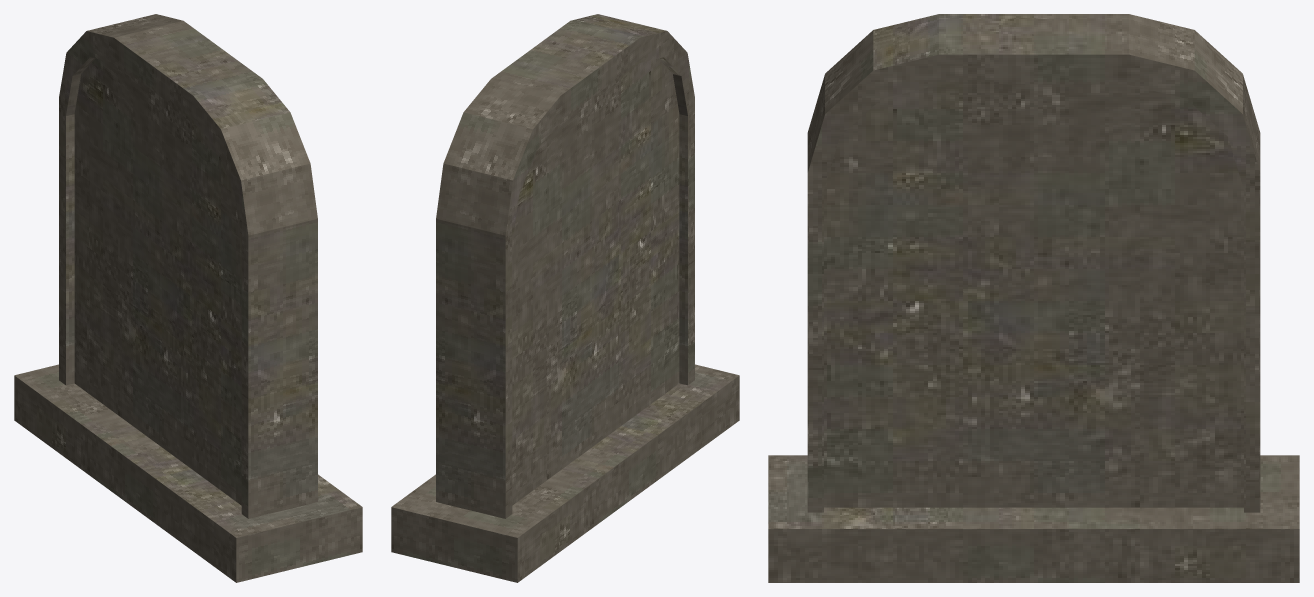
Rendered from Tumba1_.glb.
3 renders of one model, left to right at view 1: azimuth 30°, elevation 25°; view 2: azimuth 150°, elevation 25°; view 3: azimuth 270°, elevation 25°, orthographic. The views are drawn at different scales.
Visible parts, largest first — view 1: Lapida_1; view 2: Lapida_1; view 3: Lapida_1.
Boxes of the visible parts, <box> form: Lapida_1: <box>14,14,362,582</box>; Lapida_1: <box>391,14,739,582</box>; Lapida_1: <box>768,14,1299,582</box>.
Size of the model in its own units: 0.5873 by 1.9 by 1.79.
Materials: 1 (1 with a texture image).
